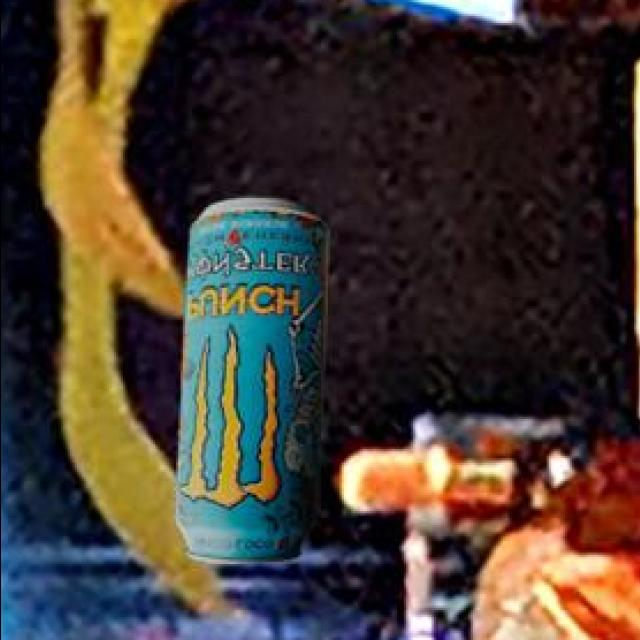logam: (172, 195, 323, 561)
